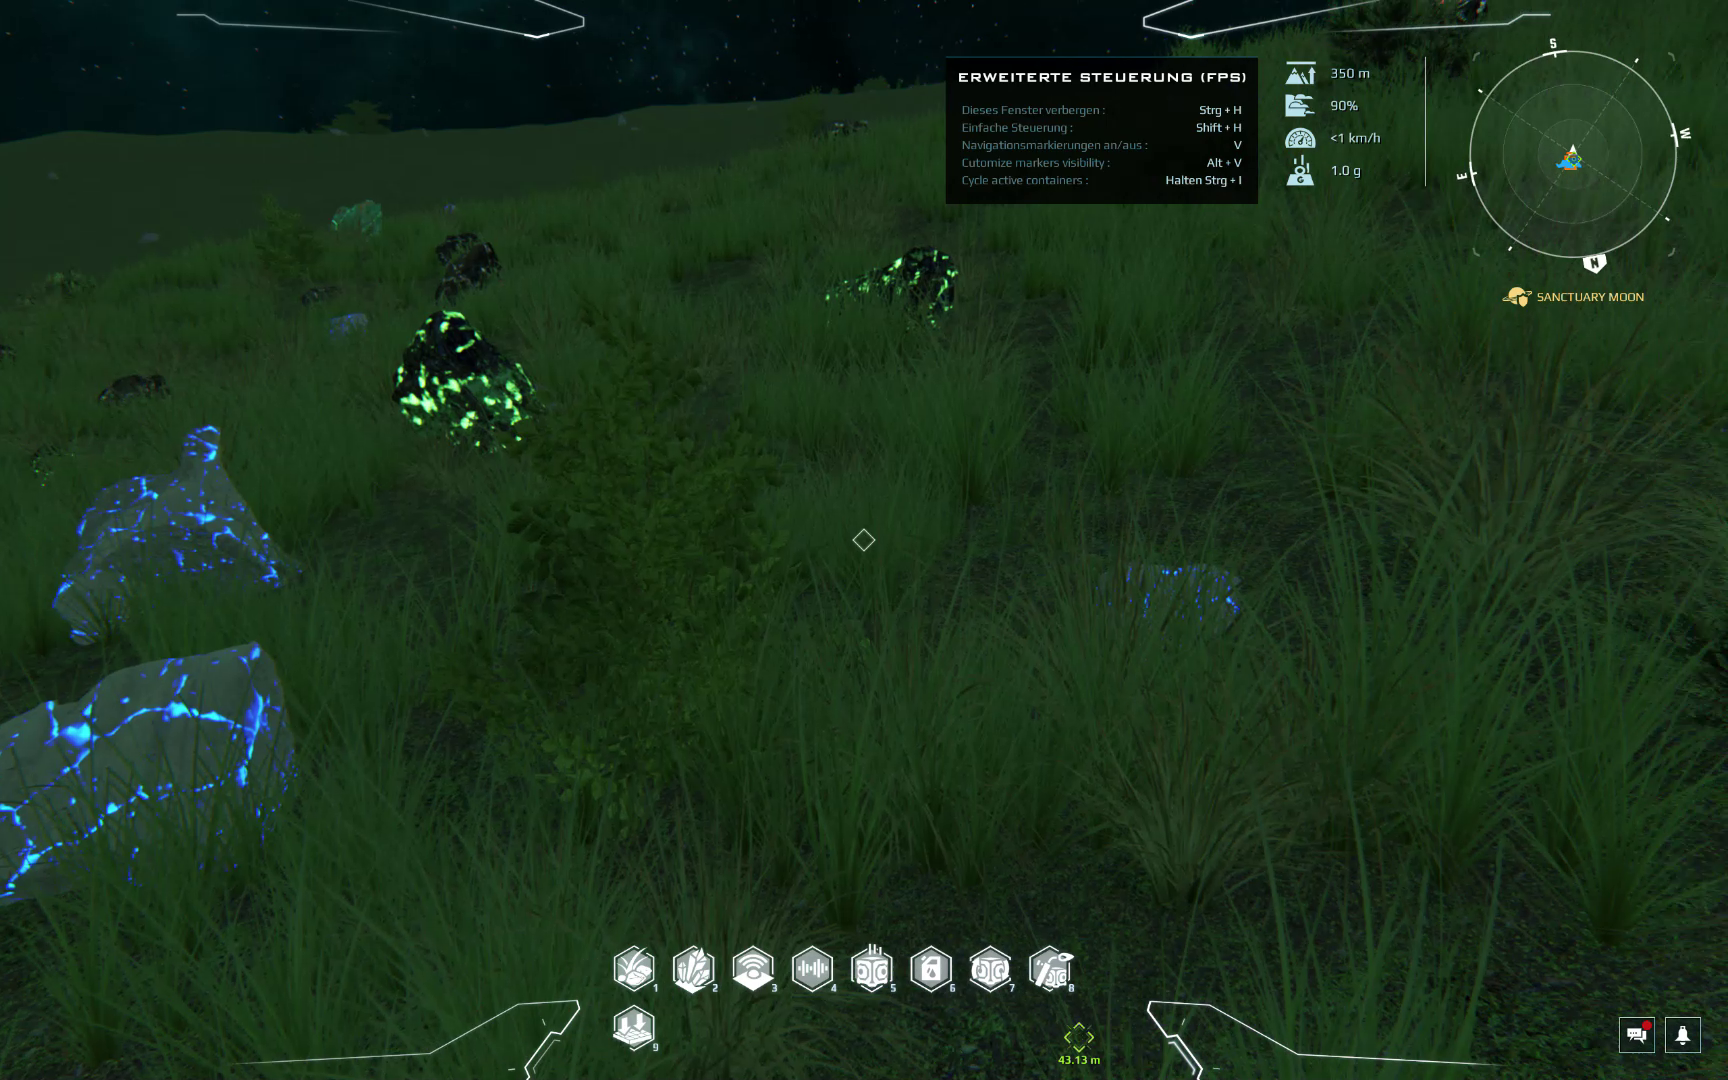Ore: (1, 642, 300, 900), (51, 427, 299, 646), (389, 306, 535, 457), (1074, 542, 1254, 649), (817, 243, 960, 332), (432, 241, 503, 304), (91, 372, 175, 409), (22, 440, 81, 490), (328, 197, 386, 243), (424, 226, 476, 263), (318, 305, 369, 335), (294, 280, 345, 309), (824, 119, 875, 139)
